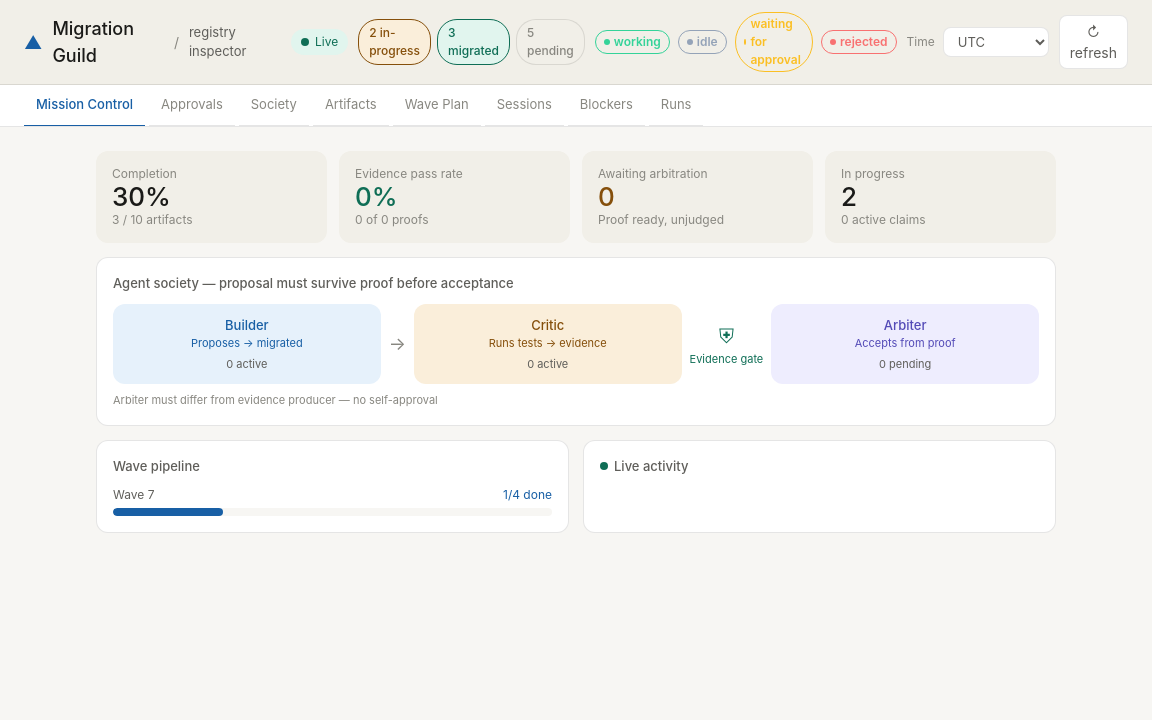
Test case: App shell › renders server-backed wave data even when the artifact list is empty
Click the tab "Wave Plan" at (437, 105), box [393,85,481,126]
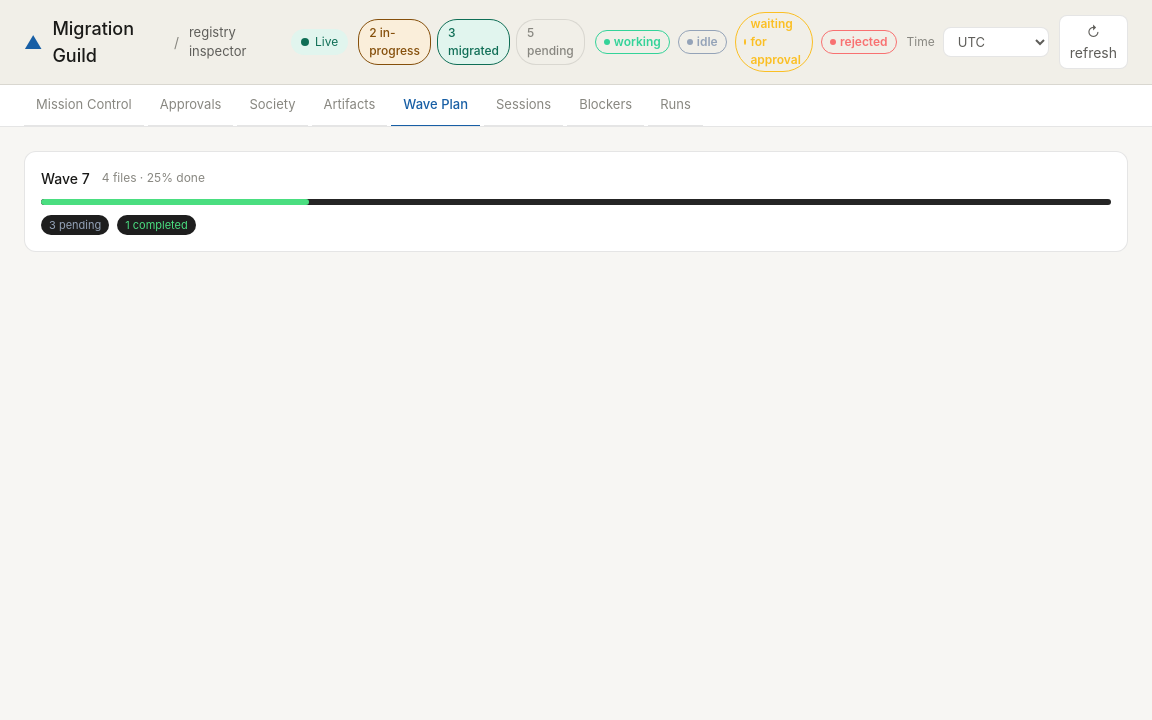
Expected: the text "Wave 7" is shown, [41,168,90,188]
Now the text "4 files · 25% done" is shown, box [102,169,205,187]
